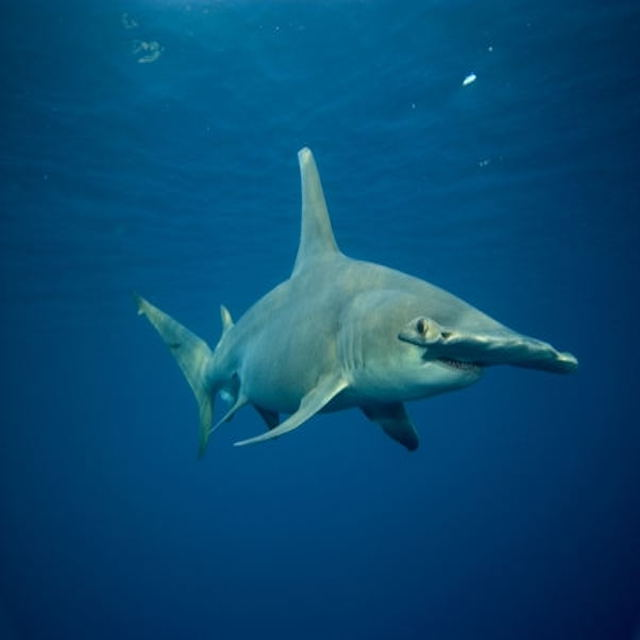hammerhead: (143, 154, 591, 440)
